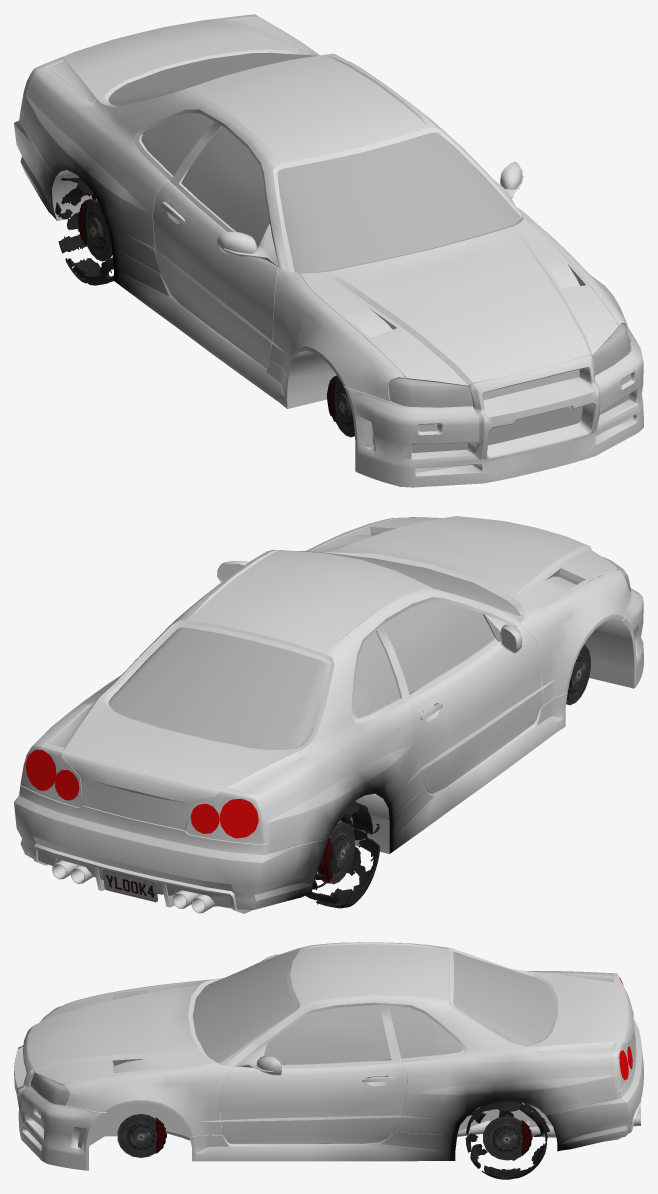
File: 10_GTRR34.fbx
3 views of the same model, one above another, from view 1: azimuth 30°, elevation 25°; view 2: azimuth 150°, elevation 25°; view 3: azimuth 270°, elevation 25° (orthographic). The views are drawn at different scales.
Parts seen in each view (by area): view 1: Body_Duco, Kit_00_Duco, Body_Glass, Body_Glossy, Kit_00_Matte, Body_Matte, Rotor (×2); view 2: Body_Duco, Kit_00_Duco, Body_Glass, Body_Glossy, Body_Matte, BrakeLights, Rotor (×2), Body_Chrome, NumberPlate; view 3: Body_Duco, Kit_00_Duco, Body_Glass, Body_Glossy, Rotor (×2), Body_Matte, Tyre_Explode_09.
Part boxes in pixels (x1,y1,x2,y2): Body_Duco: (20, 14, 631, 408); Kit_00_Duco: (14, 111, 643, 487); Body_Glass: (108, 52, 630, 407); Body_Glossy: (104, 49, 521, 272); Kit_00_Matte: (412, 369, 633, 472); Body_Matte: (52, 113, 631, 408); Rotor (×2): (85, 199, 354, 437); Body_Duco: (20, 517, 631, 853); Kit_00_Duco: (14, 516, 643, 913); Body_Glass: (108, 517, 630, 749); Body_Glossy: (53, 592, 521, 911); Body_Matte: (337, 575, 634, 853); BrakeLights: (25, 749, 258, 838); Rotor (×2): (328, 645, 590, 884); Body_Chrome: (52, 564, 515, 913); NumberPlate: (103, 869, 157, 902); Body_Duco: (63, 942, 635, 1161); Kit_00_Duco: (14, 979, 643, 1170); Body_Glass: (30, 951, 554, 1105); Body_Glossy: (218, 948, 628, 1070); Rotor (×2): (117, 1114, 522, 1160); Body_Matte: (28, 1006, 556, 1158); Tyre_Explode_09: (468, 1101, 522, 1115).
Size of what is drawn, in the model's own units: 1.9 by 1.33 by 4.59.
